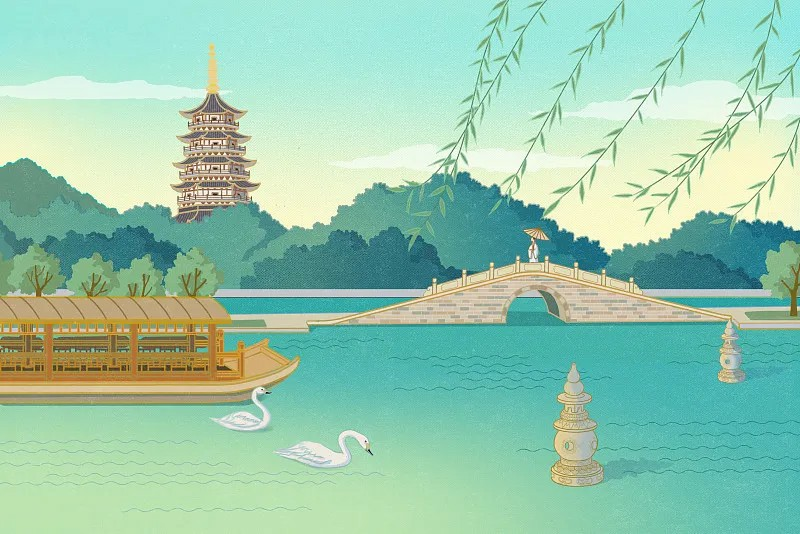Leifeng: (164, 42, 265, 223)
